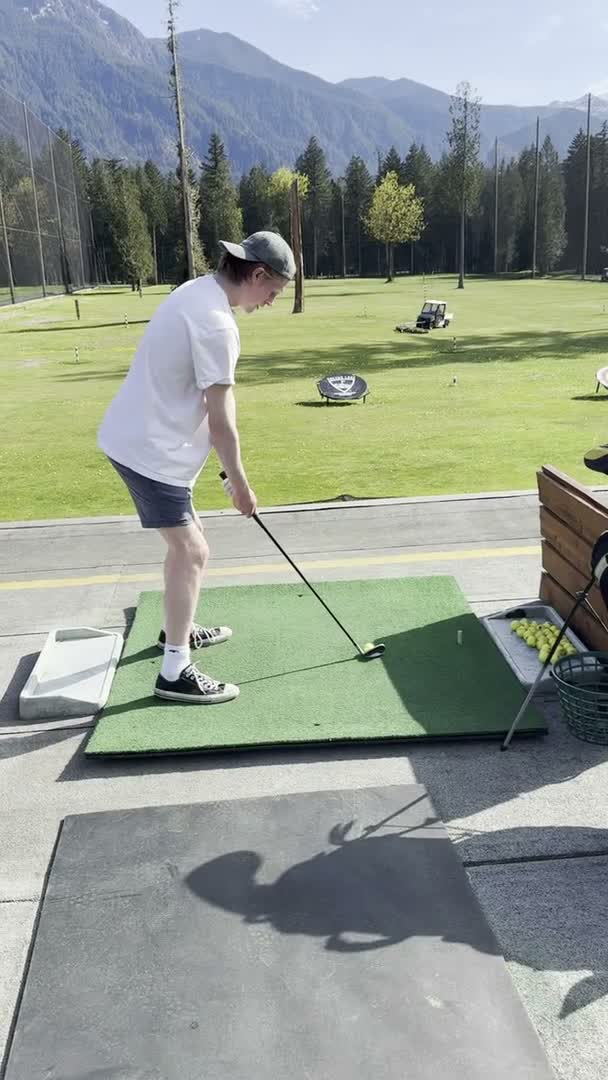Golf Ball: (361, 640, 380, 656)
